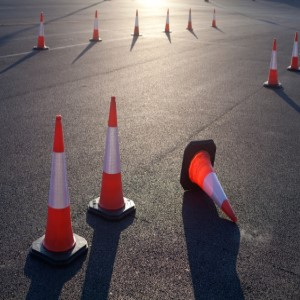traffic cone: (30, 114, 88, 268), (87, 95, 135, 223), (179, 139, 236, 225), (263, 38, 283, 88), (32, 11, 49, 50), (285, 32, 300, 71), (89, 10, 102, 42), (131, 9, 141, 37), (162, 9, 172, 33), (185, 7, 195, 31), (209, 7, 217, 27)
